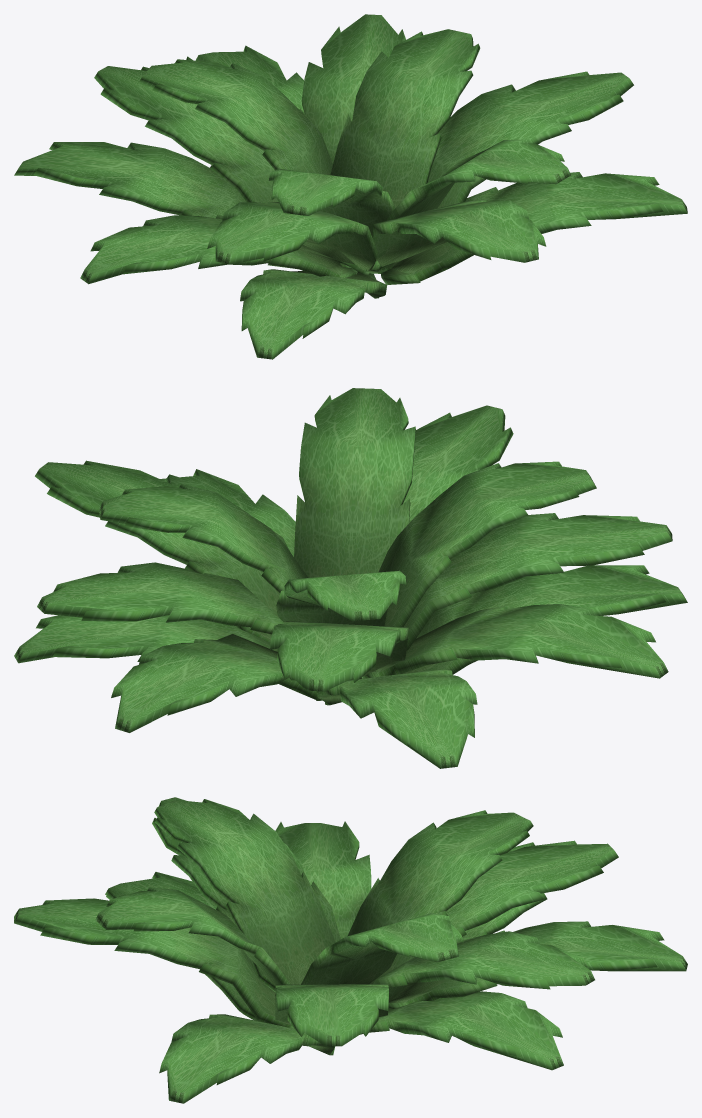
The model's file is GroundPlant.fbx.
The picture shows the model from 3 angles, top to bottom: view 1: azimuth 30°, elevation 25°; view 2: azimuth 150°, elevation 25°; view 3: azimuth 270°, elevation 25°; orthographic projection. The views are drawn at different scales.
Visible parts, largest first — view 1: Plane.033; view 2: Plane.033; view 3: Plane.033.
Part boxes in pixels (x1,y1,x2,y2): Plane.033: (14,14,687,359); Plane.033: (14,388,687,768); Plane.033: (14,797,687,1103).
Bounding box in the file's own units: 495 × 142 × 516.
Materials: 1 (1 with a texture image).
